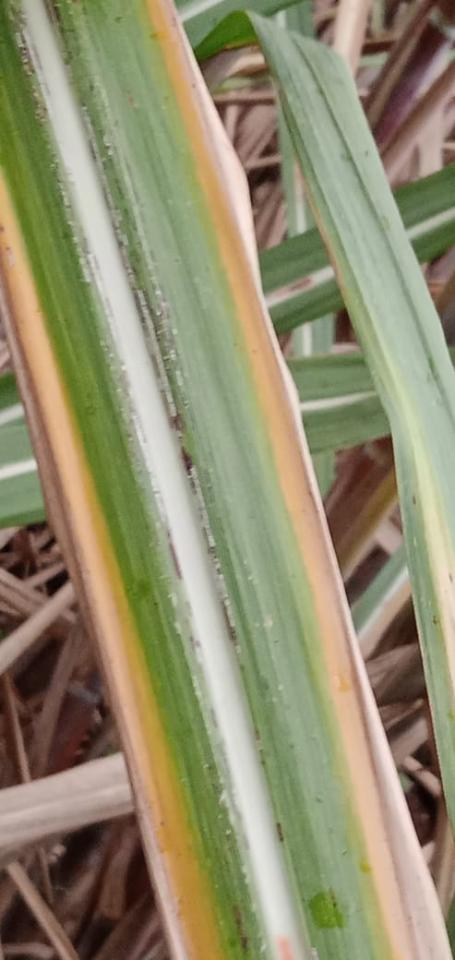RedRot: (276, 933, 295, 959)
Rust: (76, 101, 187, 440), (177, 442, 242, 648), (231, 904, 251, 954), (166, 540, 184, 581), (42, 0, 56, 25), (50, 0, 64, 24), (274, 820, 286, 844)
Yellow: (147, 0, 454, 959), (0, 172, 224, 959)
